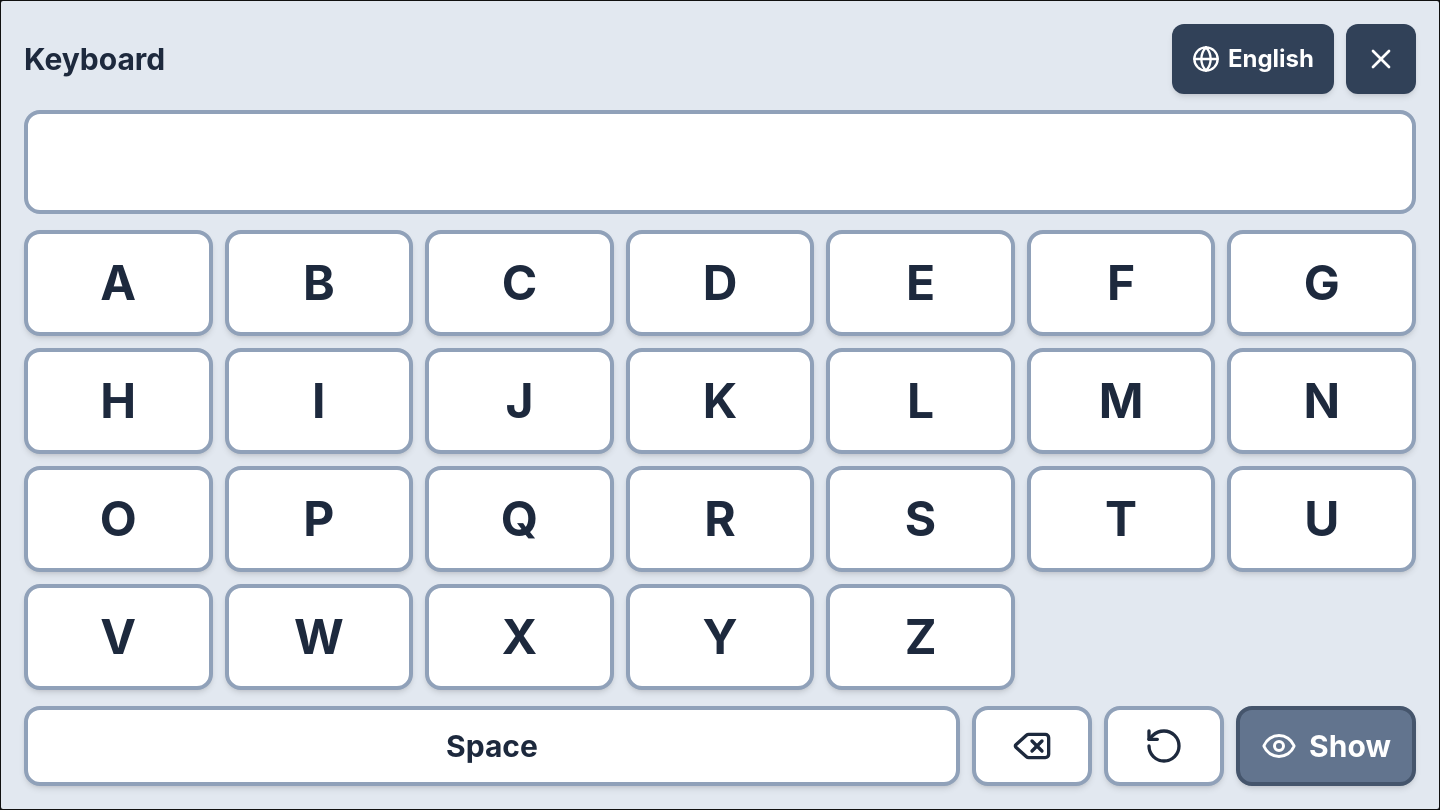
KeyboardScreen – User Story 1: type and show › tapping the space key inserts a space between words
The width and height of the screenshot is (1440, 810).
Click the button "H": [118, 401] box top-left (24, 348), bottom-right (213, 454)
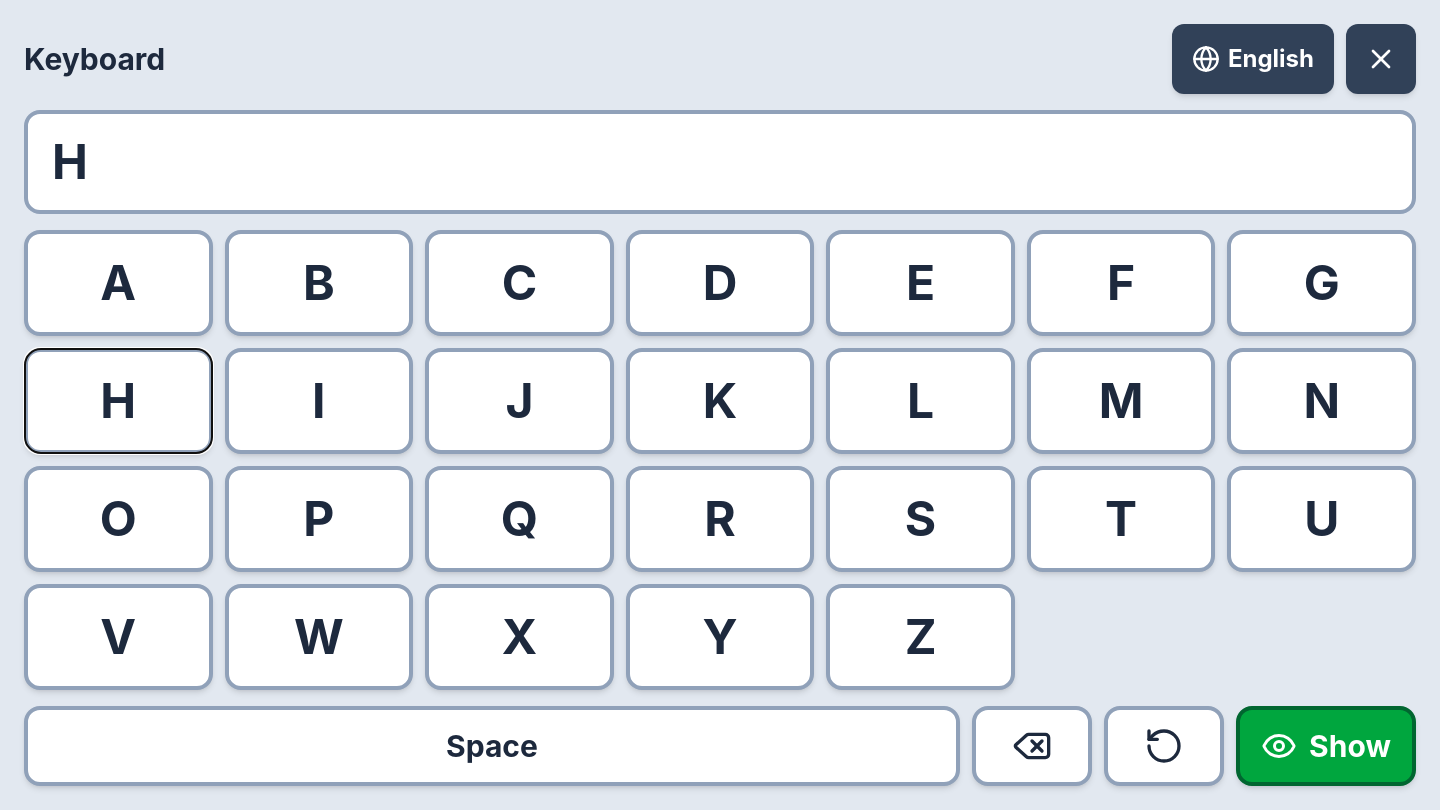
Click the button "I": [319, 401] box top-left (225, 348), bottom-right (413, 454)
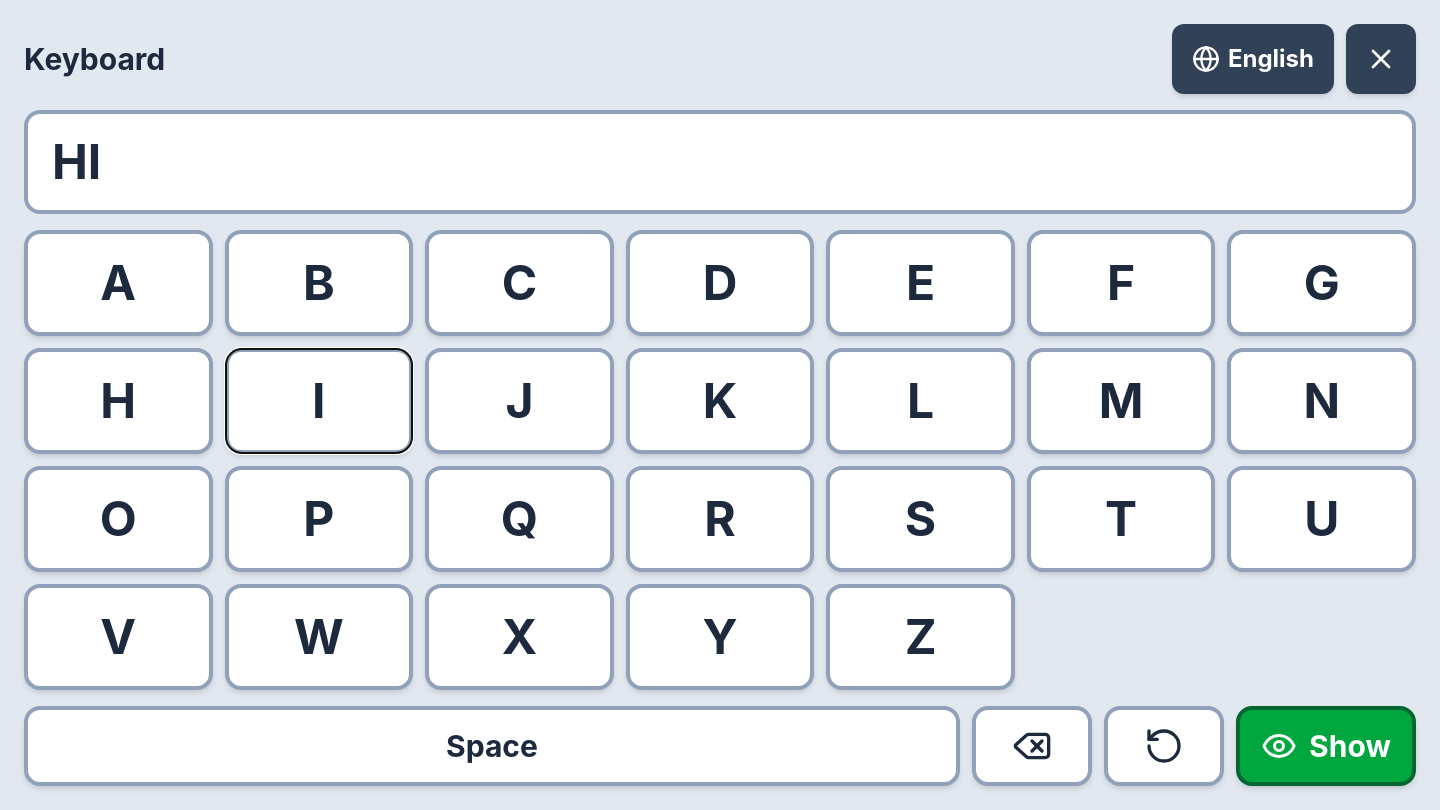
Click the button "Space": [492, 746] box top-left (24, 706), bottom-right (960, 786)
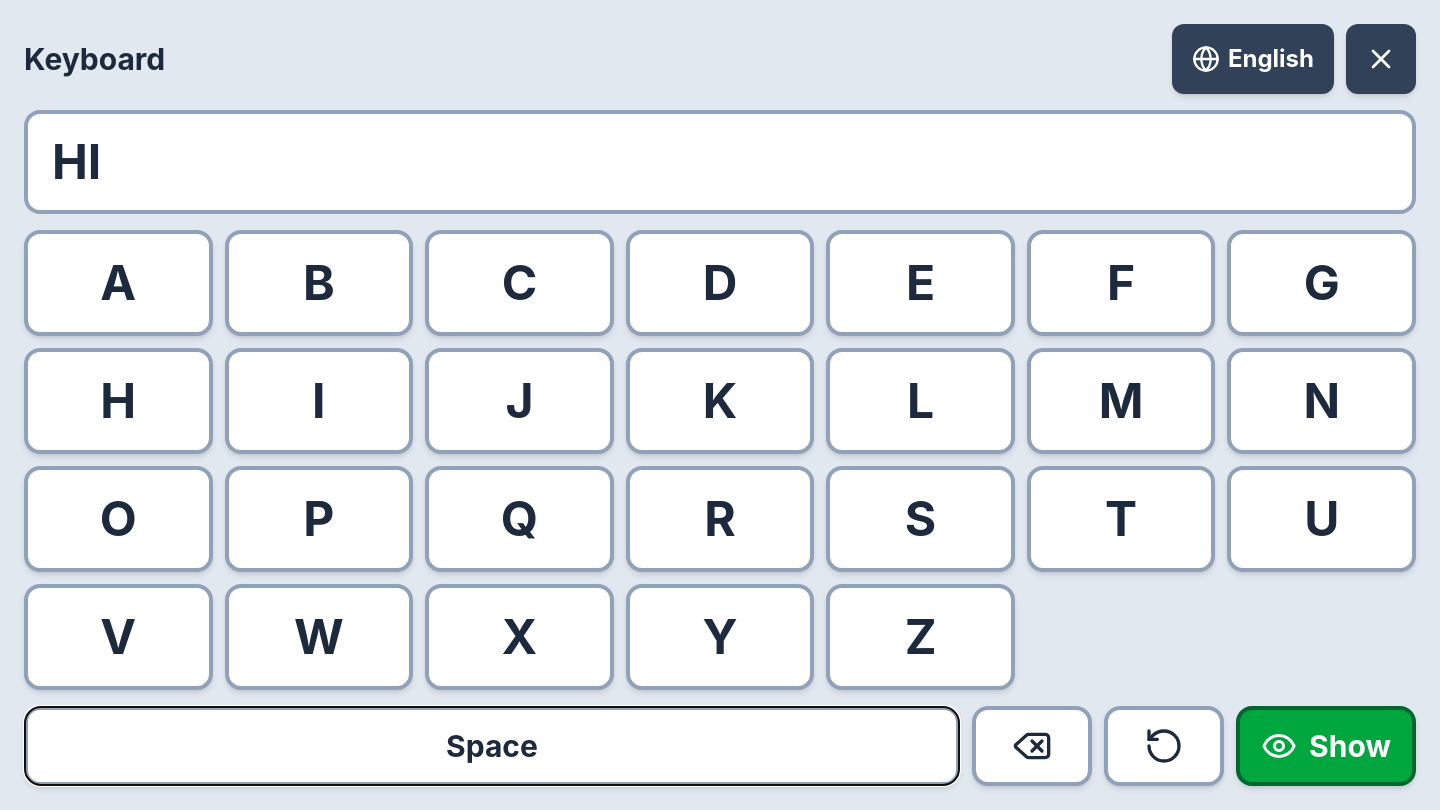
Click the button "M": [1121, 401] box top-left (1027, 348), bottom-right (1215, 454)
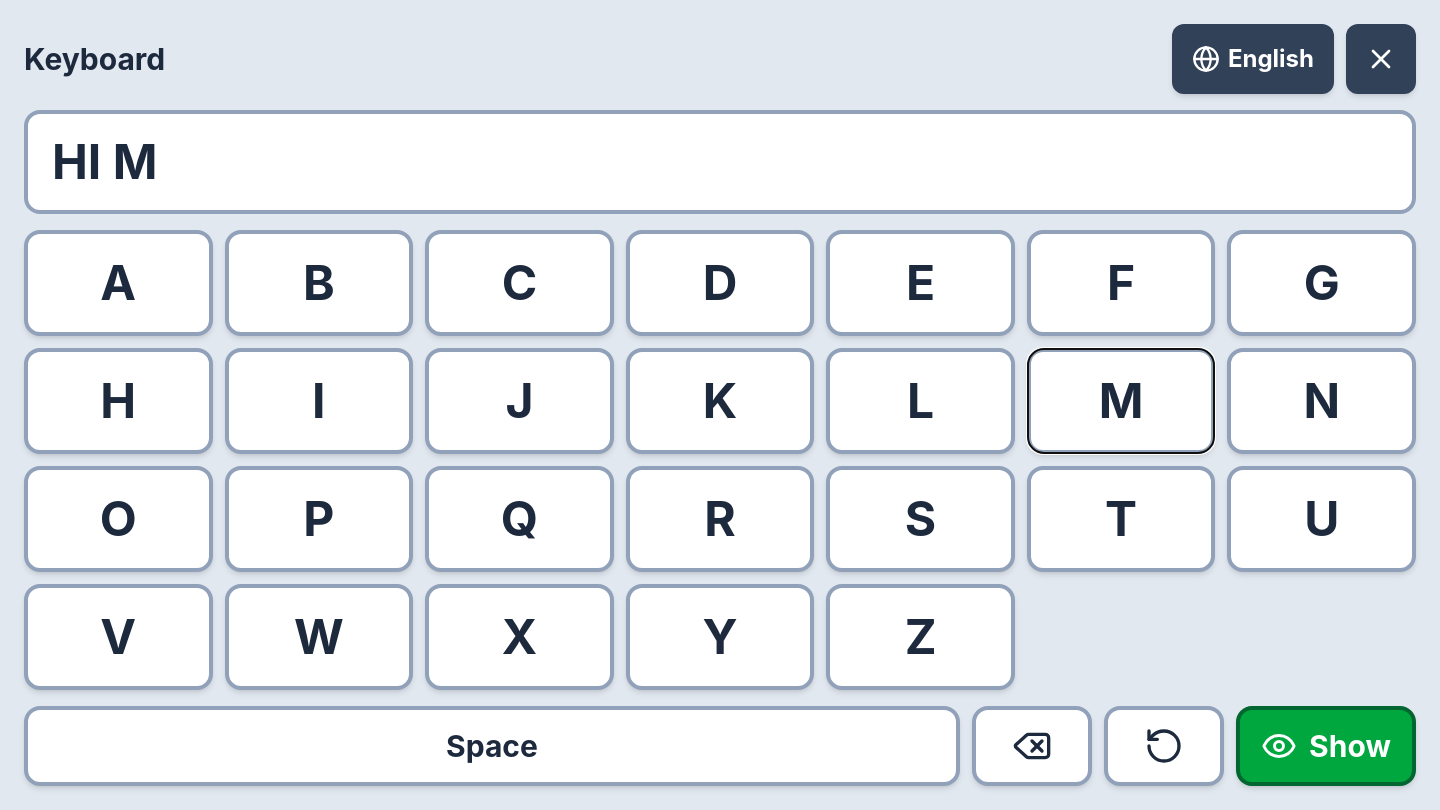
Click the button "O": [118, 519] box top-left (24, 466), bottom-right (213, 572)
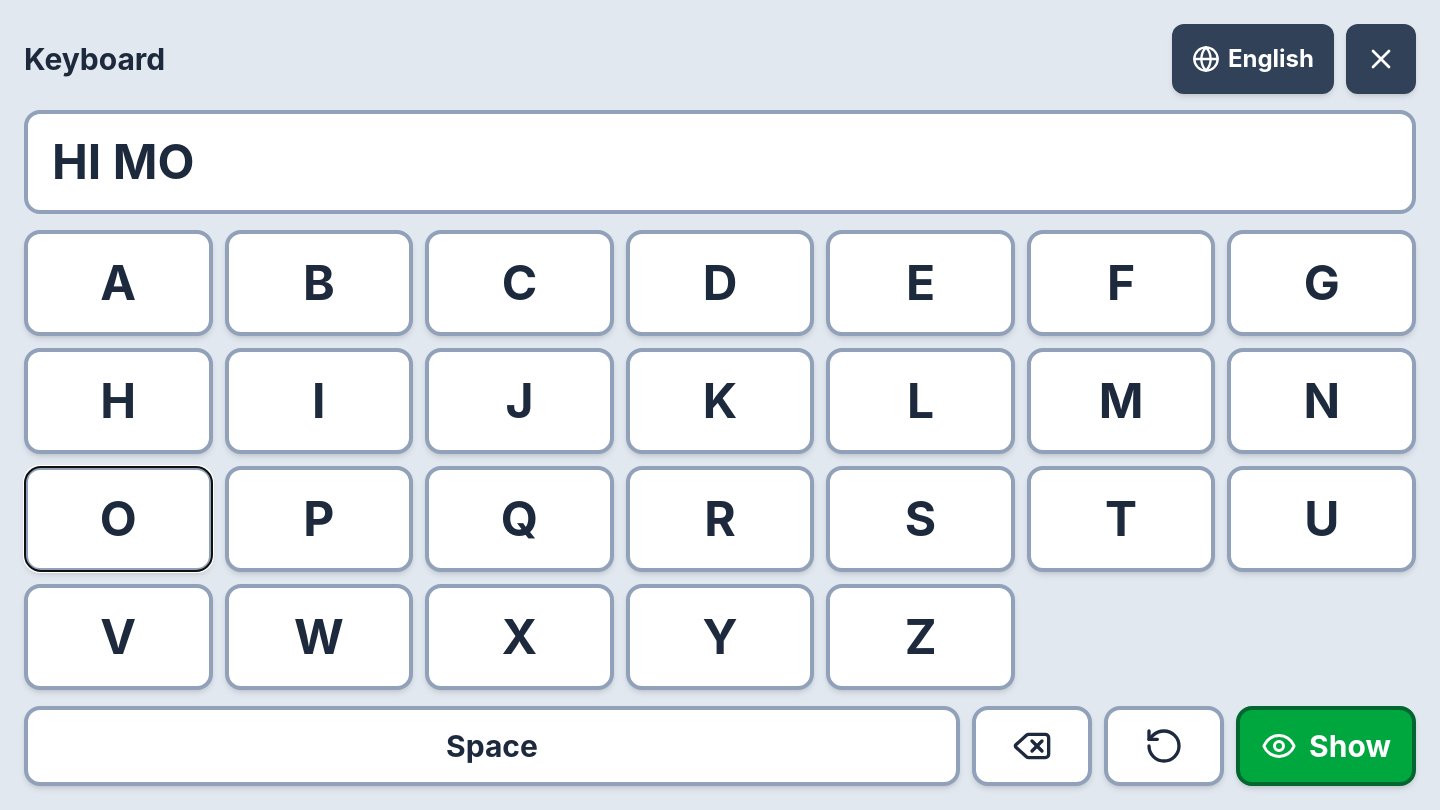
Click the button "M": [1121, 401] box top-left (1027, 348), bottom-right (1215, 454)
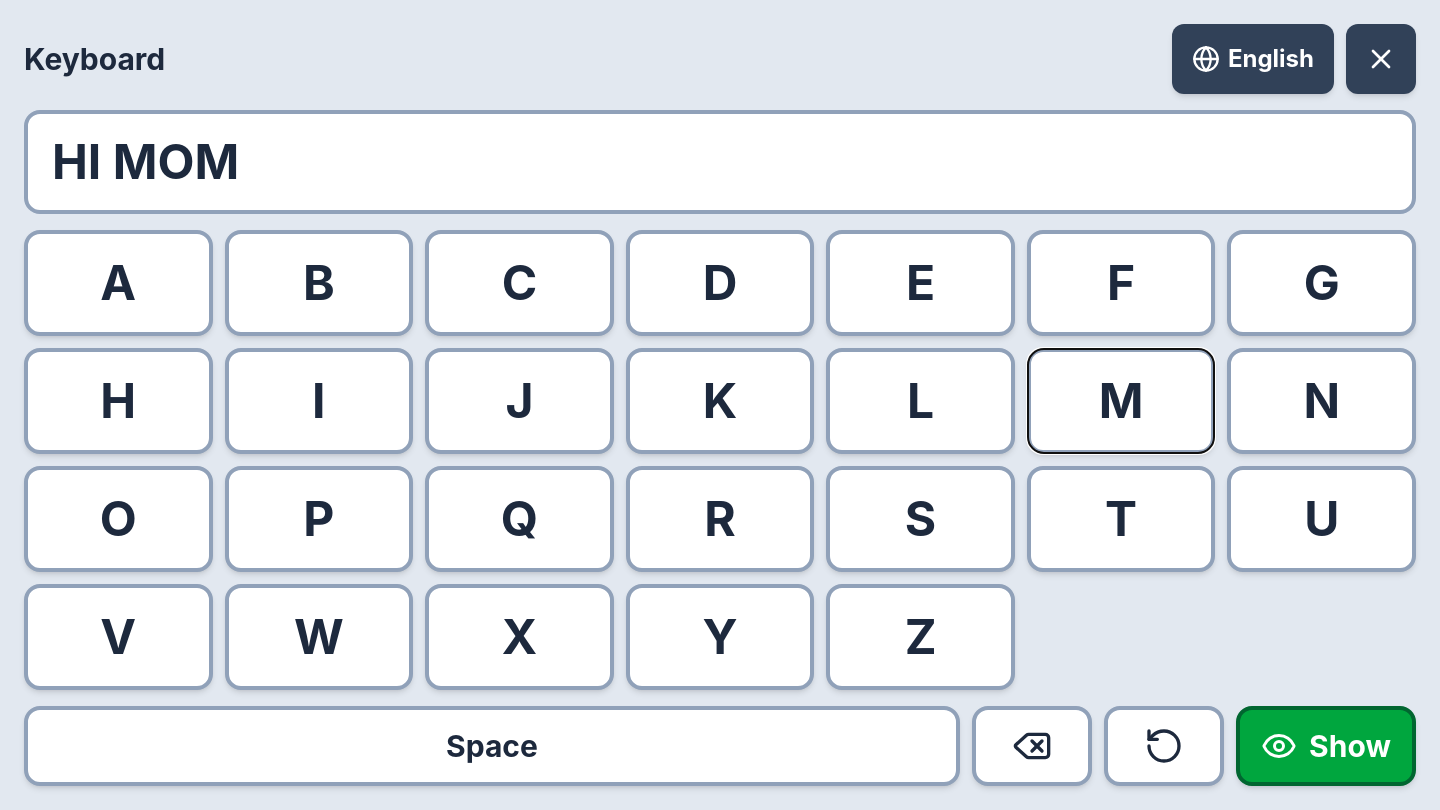
Result: the text with test id "keyboard-message" reads "HI MOM" at top-left (52, 132), bottom-right (239, 191)
